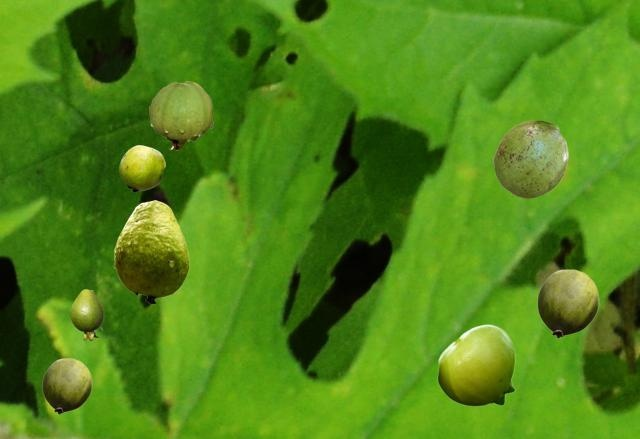guava: (113, 200, 188, 303), (437, 324, 514, 405), (493, 120, 567, 197), (149, 81, 212, 149), (537, 269, 598, 337), (42, 358, 91, 413), (119, 145, 164, 191), (70, 289, 102, 339)
